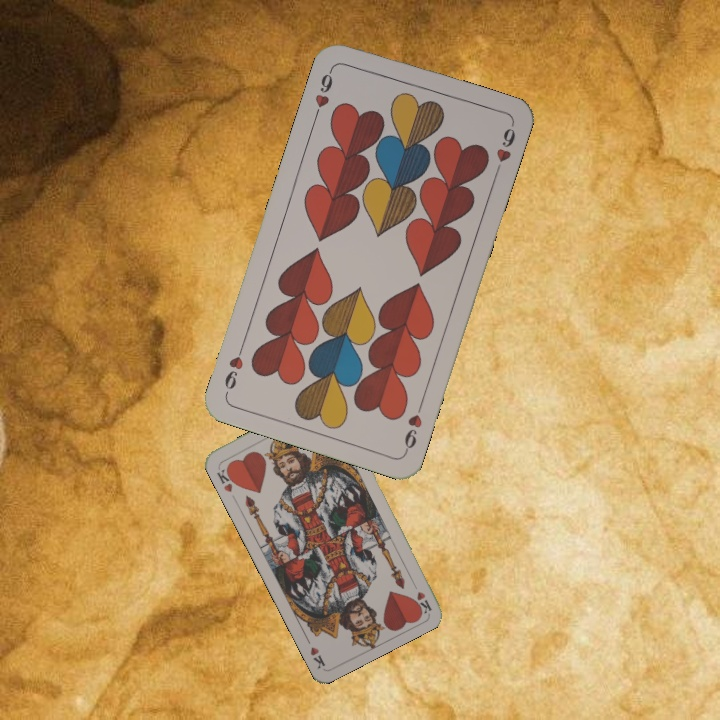H9: (400, 397, 426, 455), (310, 63, 336, 121)
HK: (407, 576, 434, 615), (213, 463, 239, 495)
